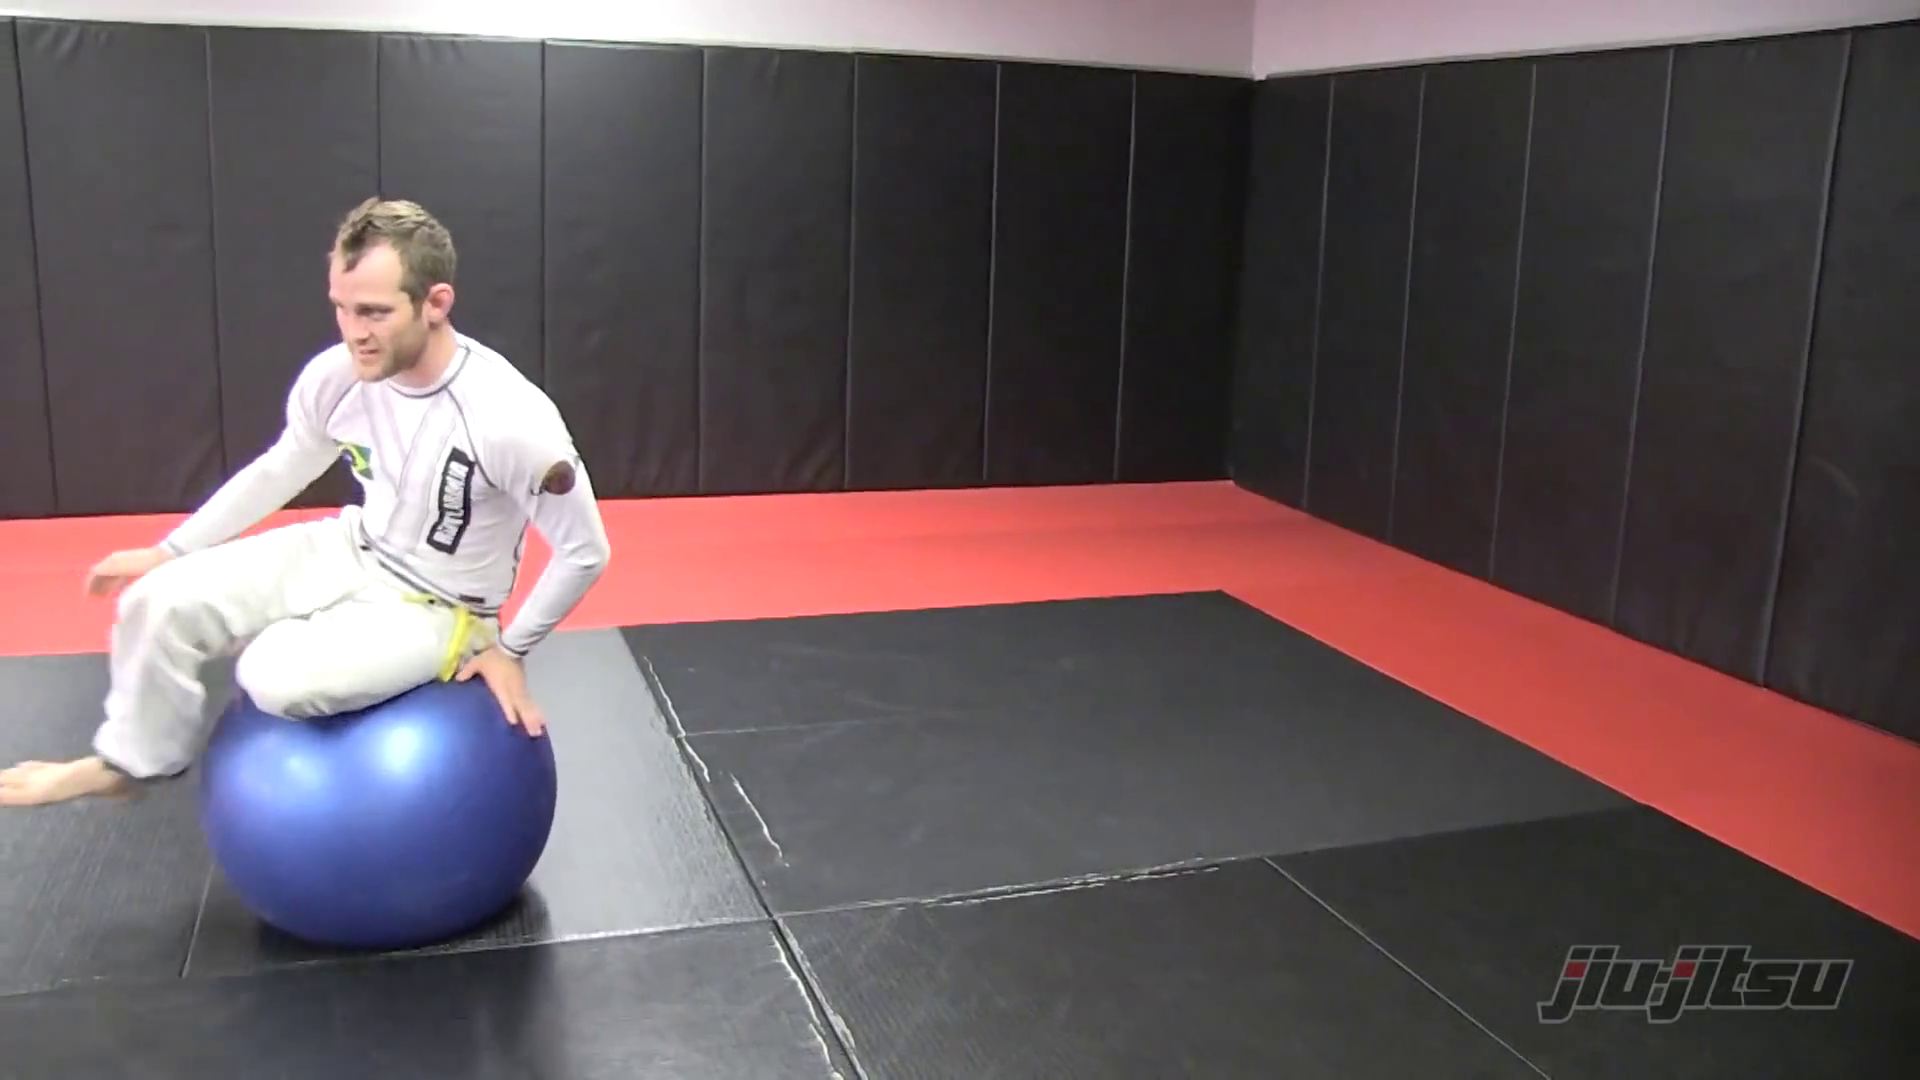yogaball: (181, 636, 589, 949)
